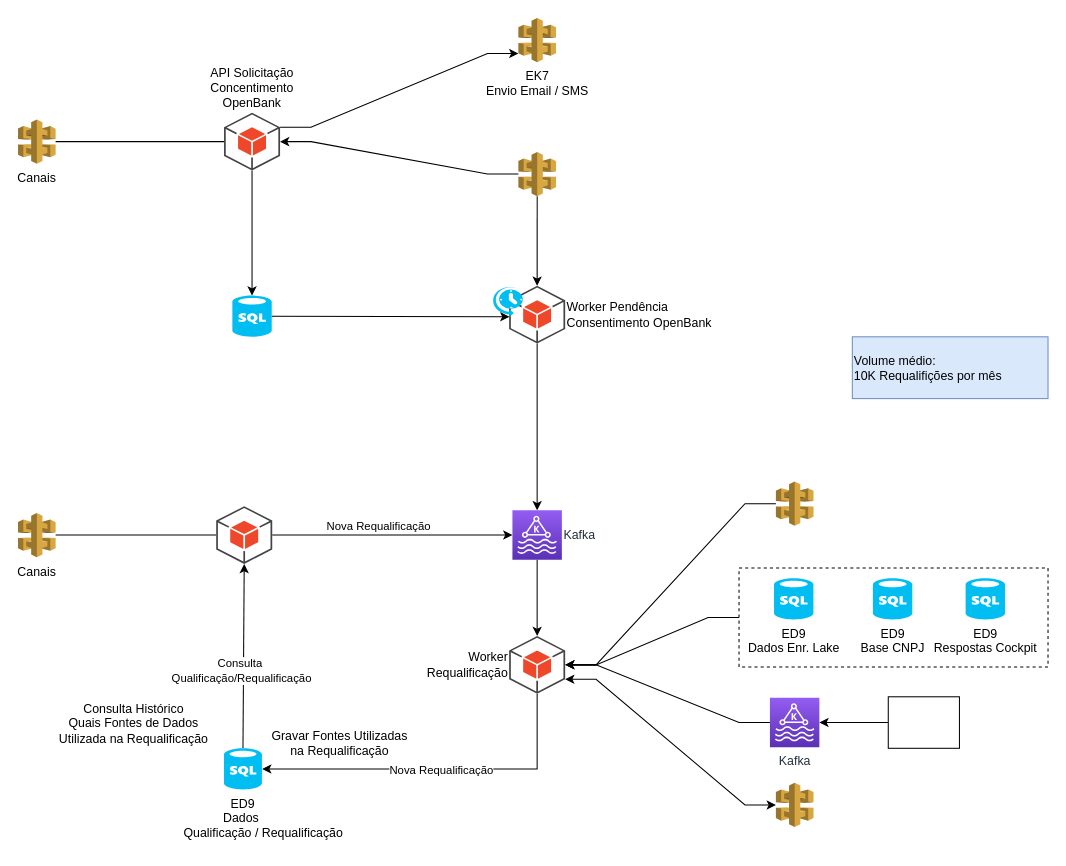
Some shapes in this 1066 by 866 pixel diagram are drawn without their labels. The shapes that lost their labels are listed below. From the top down, each one's box as (x1, y1, x2, y2) in pixels, then its label:
(517, 151, 556, 196): Consultar Consentimento OpenBank Aceito
(232, 295, 271, 336): ED9 Controle Solicitação Consentimento OpenBank
(775, 480, 813, 526): Apontamentos BX
(215, 505, 272, 564): API Requalificação
(887, 696, 959, 748): OpenBank
(775, 782, 813, 827): BRE
